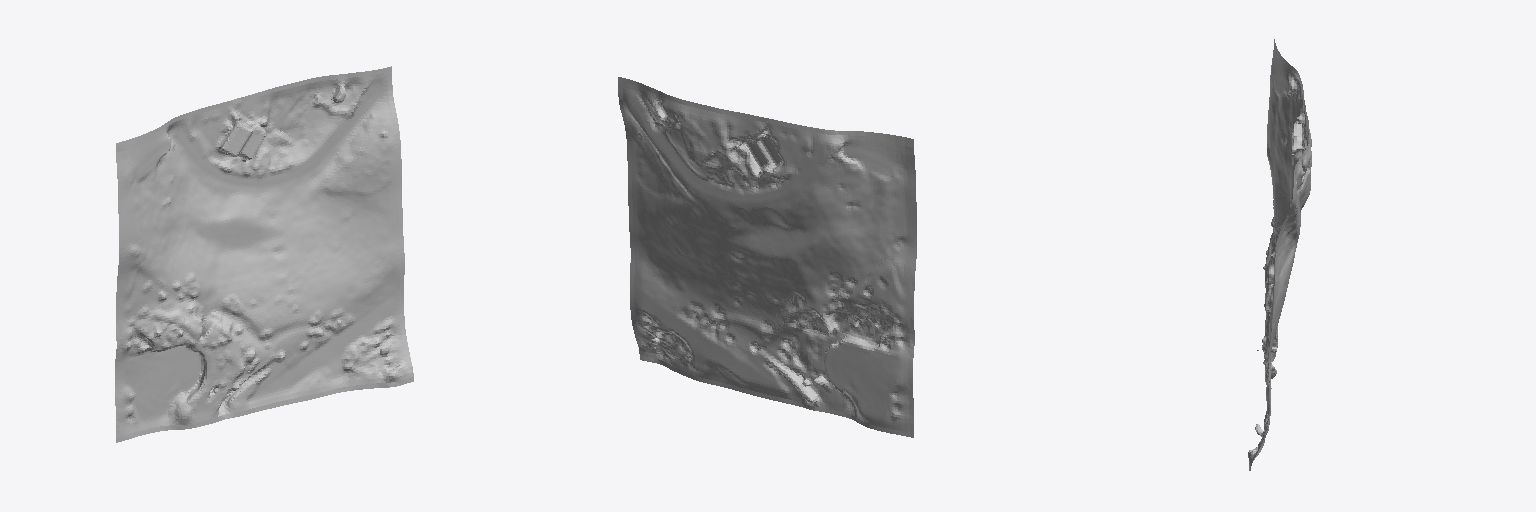
The model's file is 005006_raw.obj.
The picture shows the model from 3 angles: view 1: azimuth 30°, elevation 25°; view 2: azimuth 150°, elevation 25°; view 3: azimuth 270°, elevation 25°; orthographic projection.
Size of the model in its own units: 111 by 111 by 21.54.